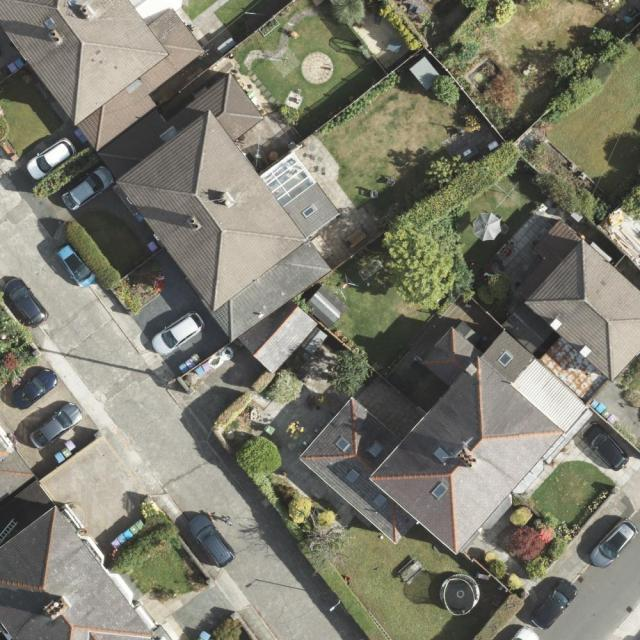roof: (0, 0, 340, 374), (299, 217, 640, 555), (0, 426, 158, 638)
skylight: (260, 153, 315, 207), (429, 479, 450, 502), (431, 444, 451, 465), (496, 350, 515, 370), (301, 203, 319, 222), (344, 466, 361, 485), (334, 436, 351, 453), (368, 440, 384, 458), (372, 492, 389, 507), (42, 17, 54, 32), (67, 2, 79, 8)
